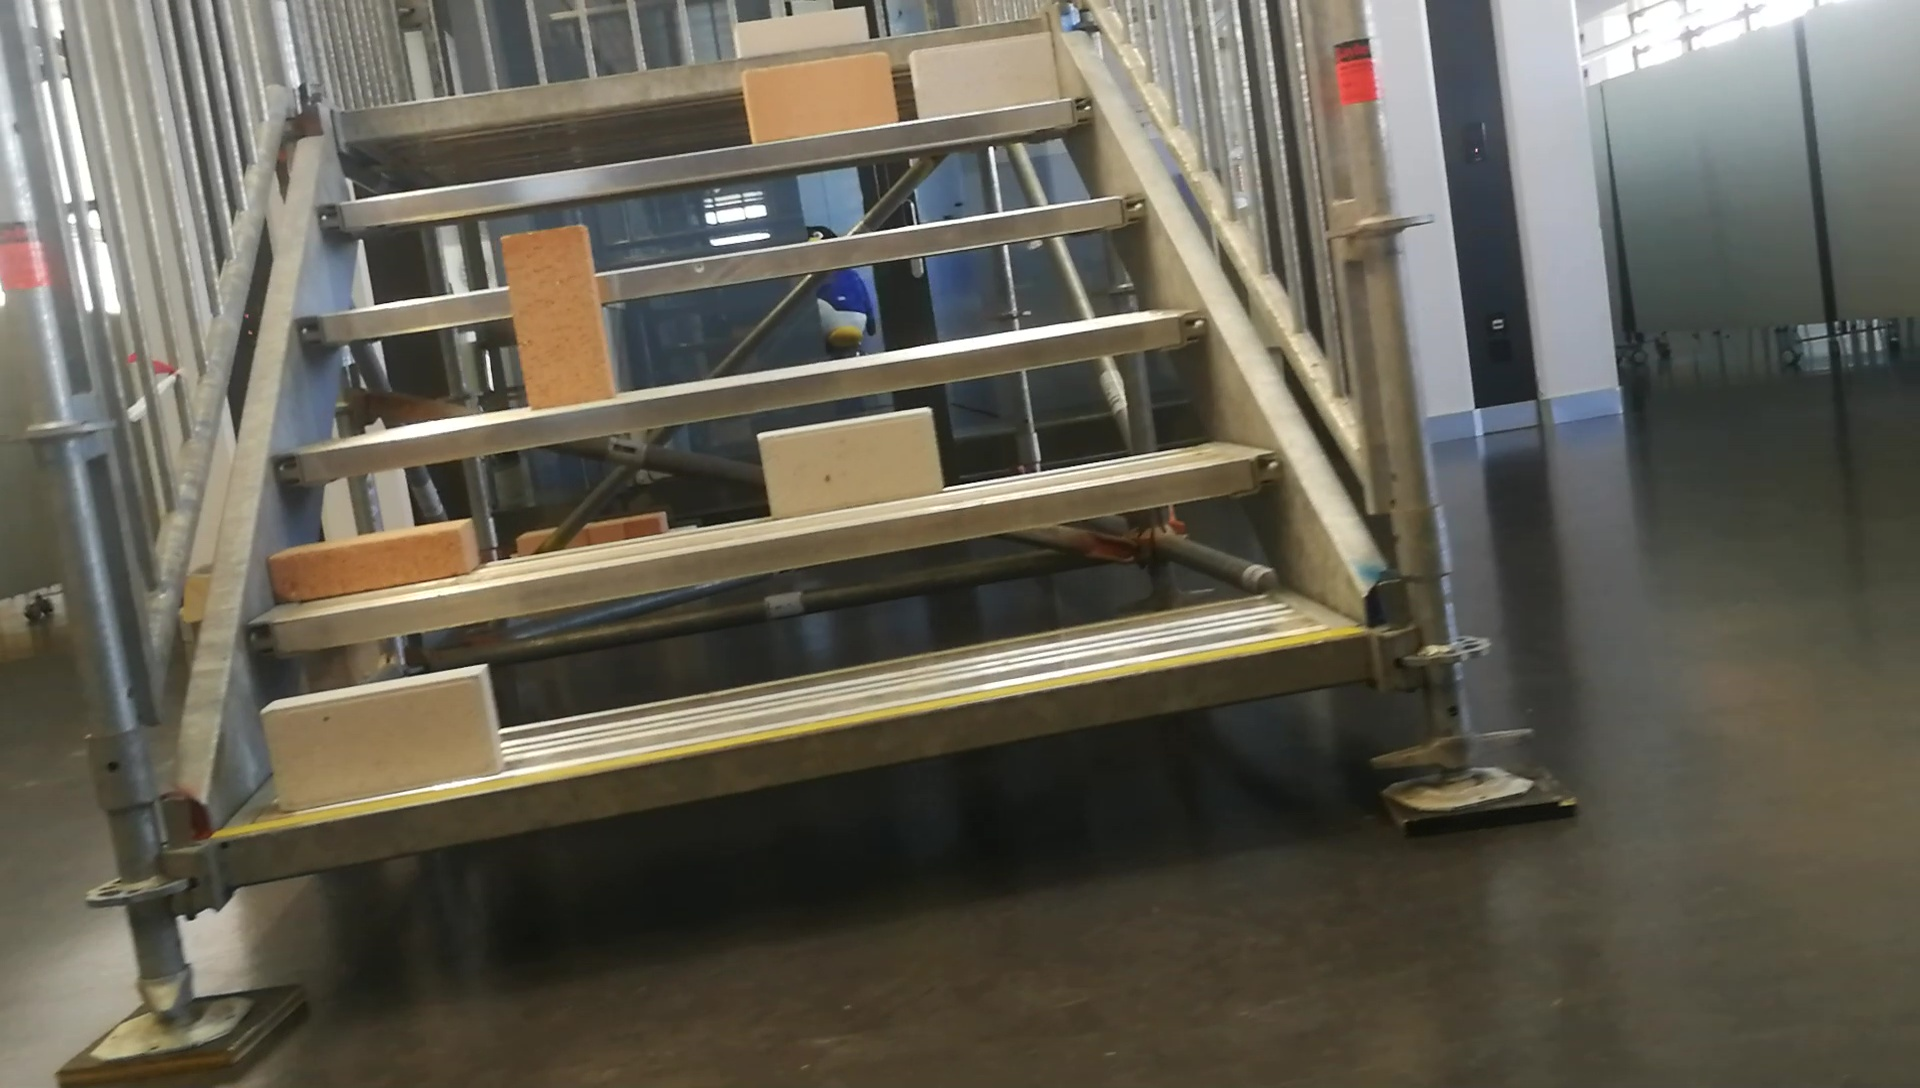brick: (262, 669, 496, 803), (502, 223, 615, 413), (757, 405, 940, 516), (266, 518, 477, 597), (740, 51, 895, 140), (913, 34, 1052, 115), (736, 7, 865, 53)
edge: (215, 630, 1385, 888), (251, 454, 1284, 651), (276, 313, 1203, 485), (295, 195, 1153, 338), (318, 98, 1096, 231)
stairs: (61, 3, 1576, 1085)
steps: (206, 3, 1398, 907)
